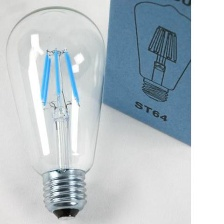book: (97, 0, 224, 154)
light_bulb: (3, 1, 110, 224)
